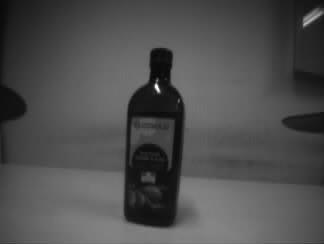Bottle: (123, 48, 186, 227)
